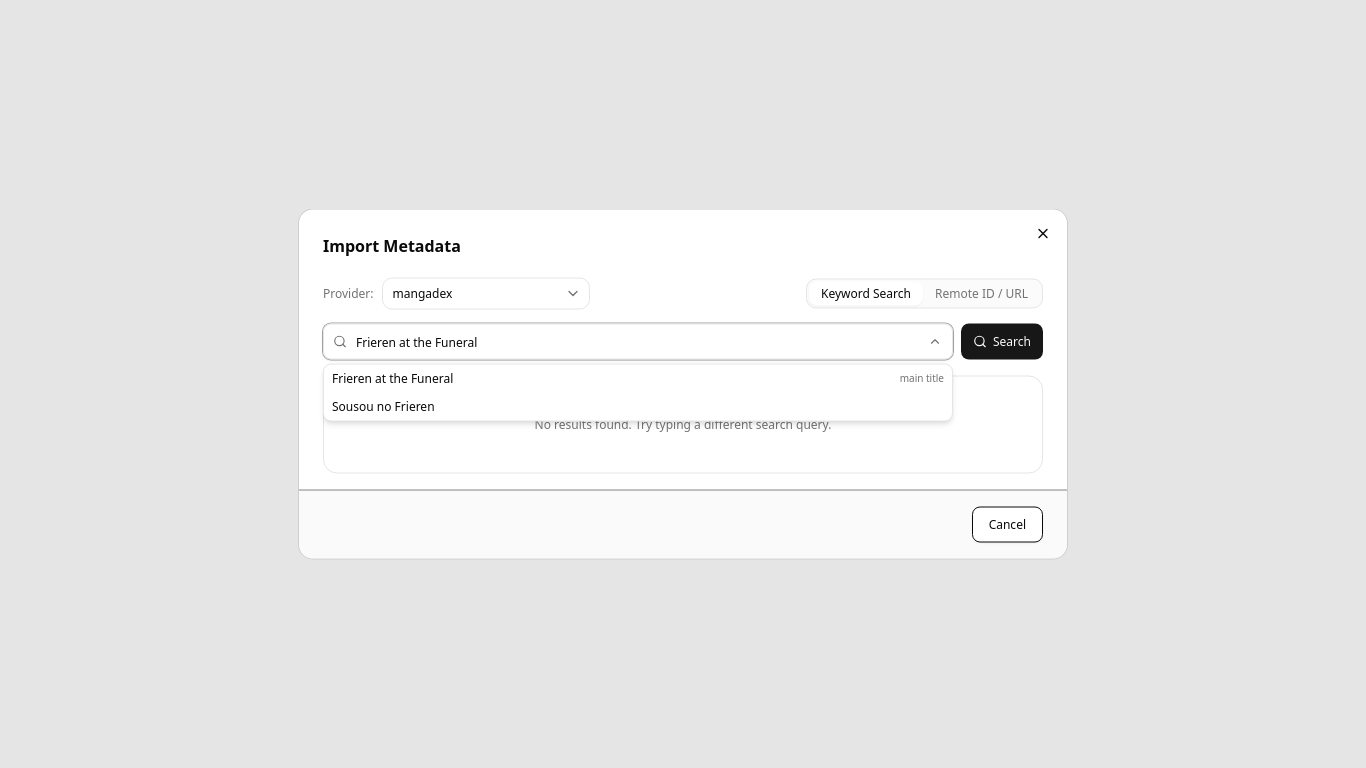
Test: ImportMetadataDialog › does not render empty badge container when search results have no tags
Click the button "Search": (1002, 342) [961, 324, 1043, 360]
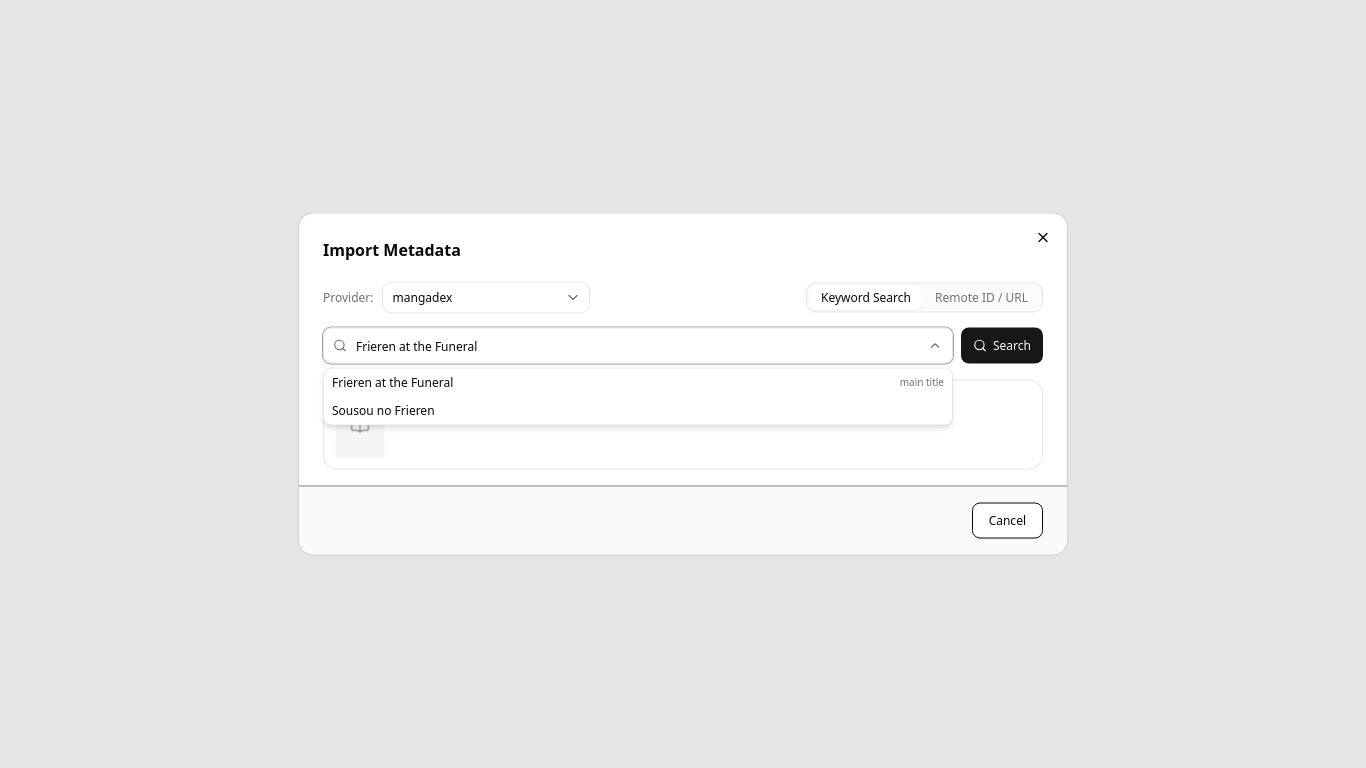
Result: the text "No Tags Manga" is shown at [398, 392, 490, 408]
